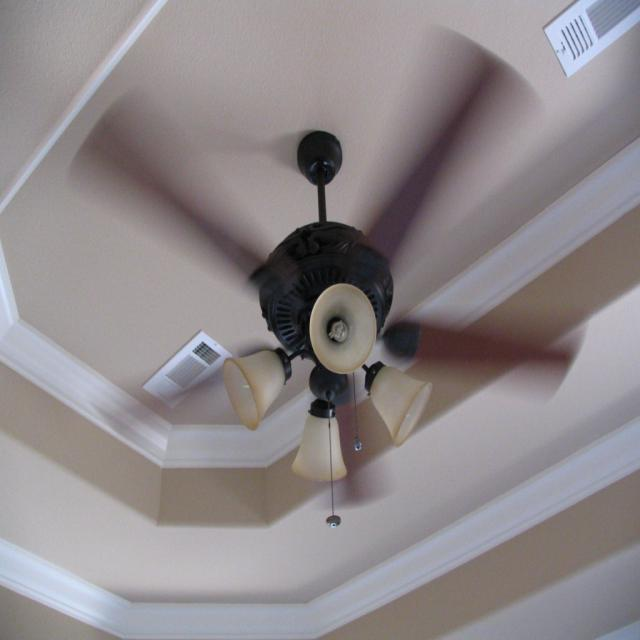Bulb: (63, 21, 589, 528)
